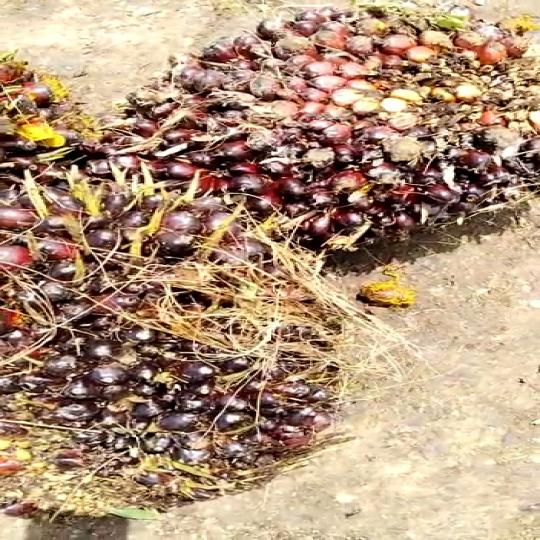kurang masak: (0, 171, 363, 519), (105, 0, 540, 224)
